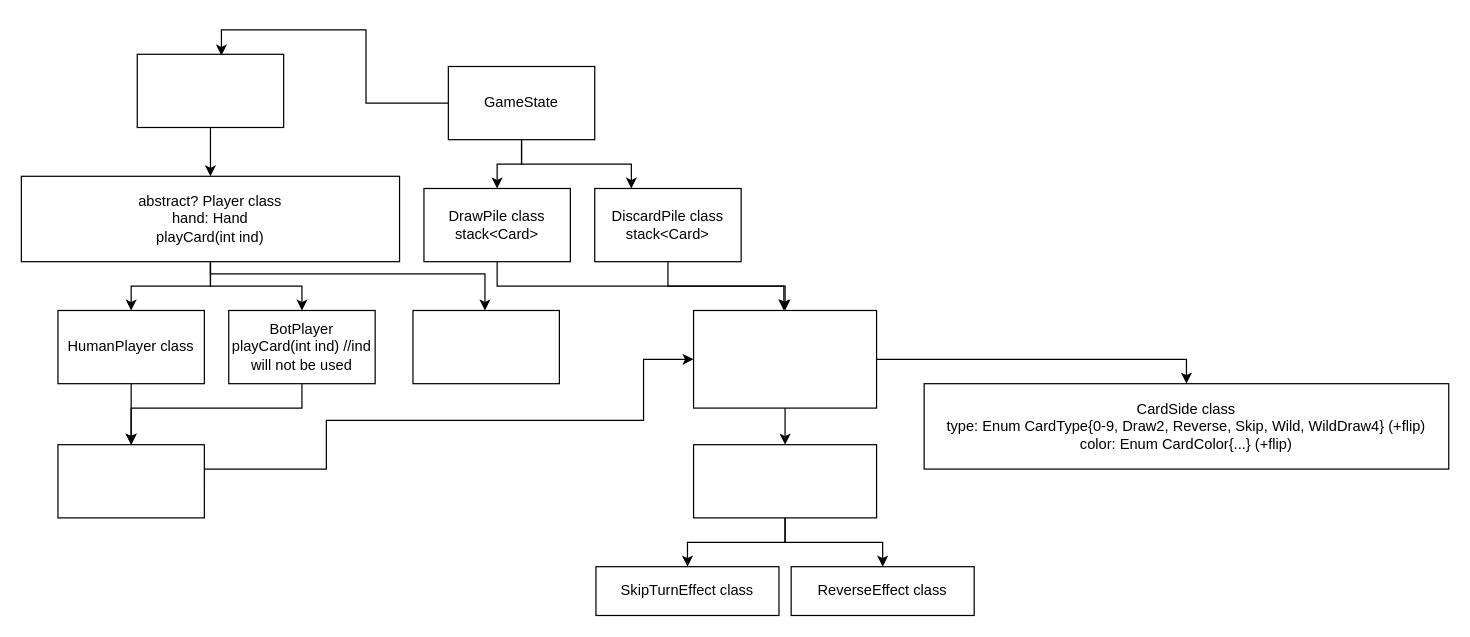
The diagram is 1470 pixels wide and 637 high, and some of its shapes have lost their labels. Here are the shapes that lost their labels. From the top down, the box of each, then its label:
(136, 53, 284, 127): TurnOrder class deque<Player> (bcoz it's reversible)
(412, 309, 559, 384): CardApplier playCard(Card, GameState&)
(692, 309, 877, 408): Card class currSide: CardSide backSide: CardSide effect: CardEffect flip()
(57, 443, 204, 518): Hand class multiset<Card>
(692, 443, 877, 518): abstract CardEffect class applyEffect(GameState)
